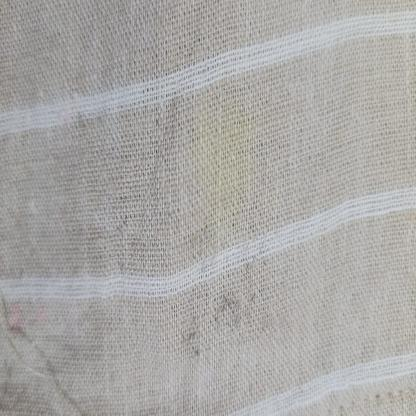spot: (188, 60, 271, 243), (180, 103, 250, 179), (219, 88, 257, 199), (241, 228, 261, 309), (216, 288, 241, 336), (189, 322, 204, 360)
